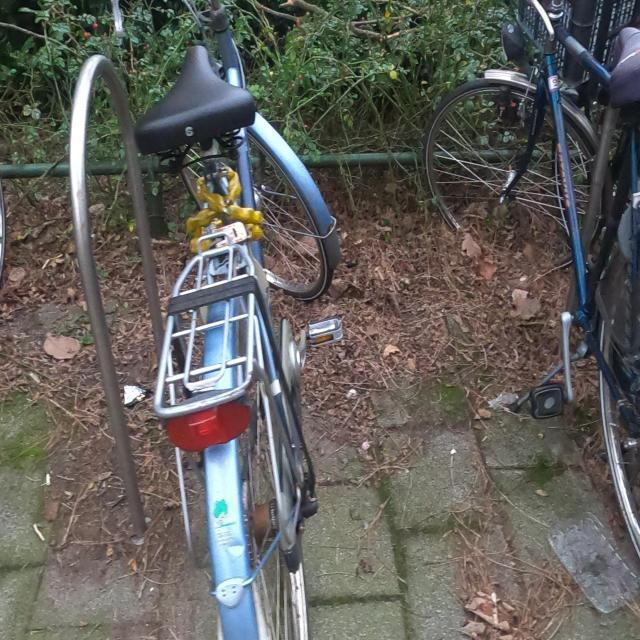Can-Metal: (123, 384, 147, 407)
Plastic: (547, 508, 640, 616)
